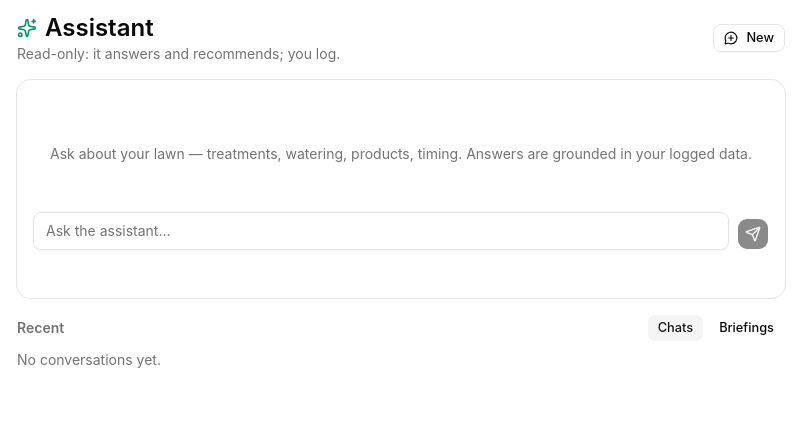
Test case: ChatPanel › sends a typed message through the form and renders the reply
Type "When did I last mow?" into the text box named "Message" at (381, 231), box [33,212,729,250]
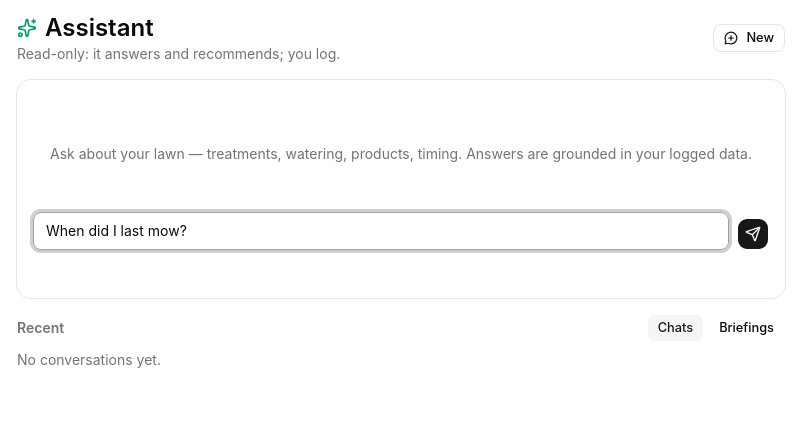
Click the button named "Send" at (753, 234), box [737,218,769,250]
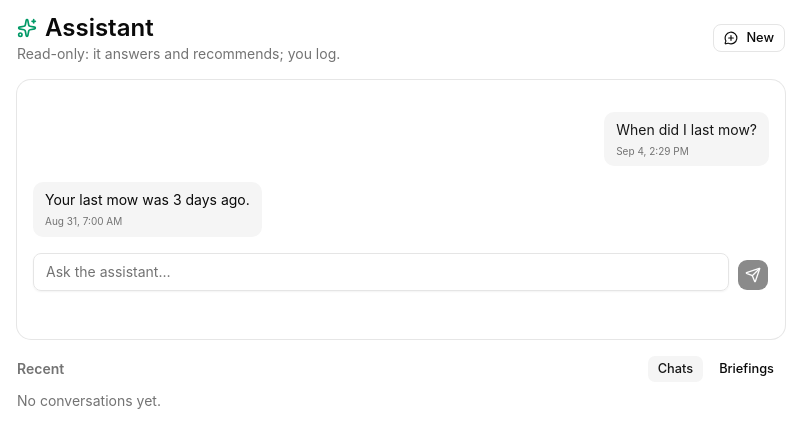
Expected: the text "Your last mow was 3 days ago." is shown, [45,191,250,208]
Expected: the text "When did I last mow?" is shown, [616,121,757,138]
